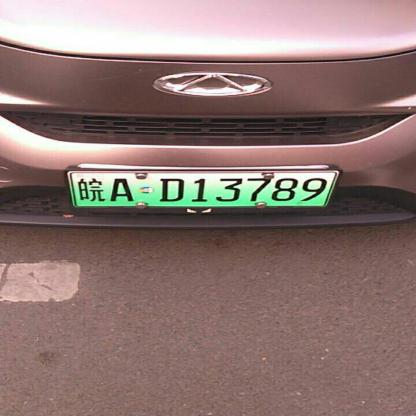lp: (68, 172, 336, 206)
